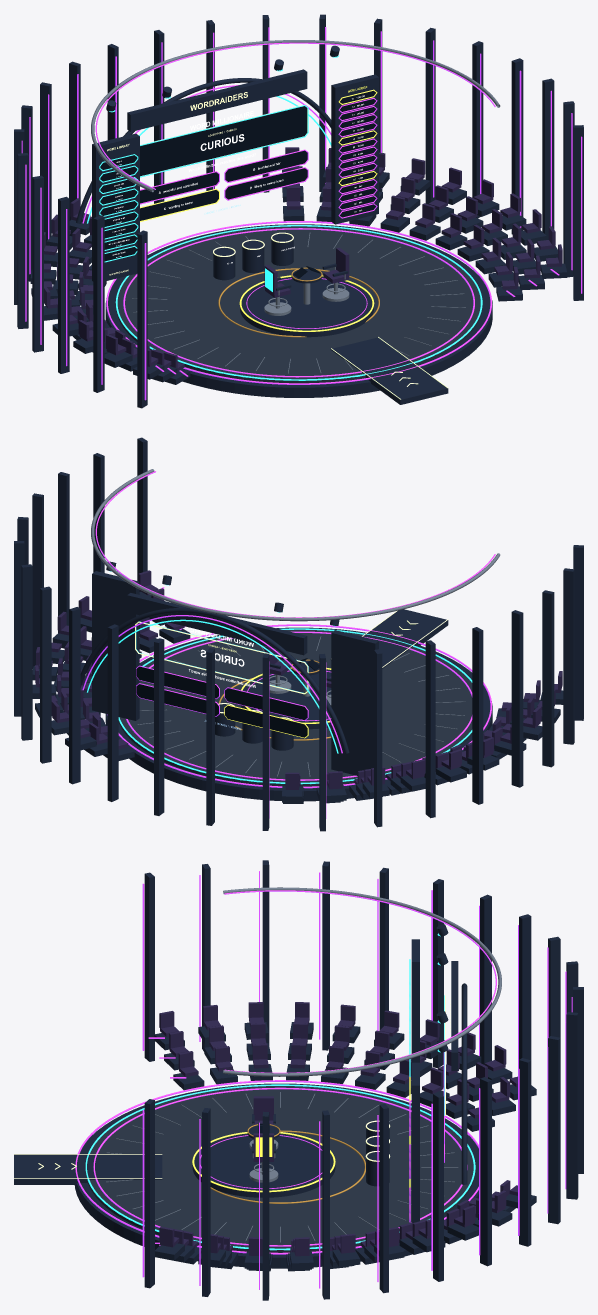
File: studio.glb
3 renders of one model, top to bottom at view 1: azimuth 30°, elevation 25°; view 2: azimuth 150°, elevation 25°; view 3: azimuth 270°, elevation 25°, orthographic. The views are drawn at different scales.
Visible parts, largest first — view 1: Stage_Main, Stage_Foundation, HotSeat_Dais, Flashcard_Front, Brand_Fascia, Entry_Walkway, Word_Library_Frame, Ladder_Frame, Wall_Fin.001, Wall_Fin.003, Wall_Fin.004, Lighting_Rig_Arc (+33 smaller); view 2: Stage_Main, Word_Library_Frame, Ladder_Frame, Stage_Foundation, Brand_Fascia, Entry_Walkway, Wall_Fin.002, Wall_Fin.003, Lighting_Rig_Arc, Wall_Fin.001, Wall_Fin.014, Wall_Fin.004 (+28 smaller); view 3: Stage_Main, HotSeat_Dais, Entry_Walkway, Stage_Foundation, Lighting_Rig_Arc, Wall_Fin.011, Wall_Fin.013, Wall_Fin.012, Wall_Fin.014, Wall_Fin.015, Wall_Fin.020, Wall_Fin (+22 smaller).
Part boxes in pixels (<box>): Stage_Main: <box>116,226,482,383</box>; Stage_Foundation: <box>105,224,492,397</box>; HotSeat_Dais: <box>240,276,373,337</box>; Flashcard_Front: <box>140,106,307,176</box>; Brand_Fascia: <box>127,69,307,131</box>; Entry_Walkway: <box>330,337,448,404</box>; Word_Library_Frame: <box>92,133,139,281</box>; Ladder_Frame: <box>331,74,378,224</box>; Wall_Fin.001: <box>93,215,104,392</box>; Wall_Fin.003: <box>32,175,43,352</box>; Wall_Fin.004: <box>17,153,28,328</box>; Lighting_Rig_Arc: <box>91,40,500,192</box>; Stage_Main: <box>118,629,472,786</box>; Word_Library_Frame: <box>331,630,378,775</box>; Ladder_Frame: <box>92,571,139,720</box>; Stage_Foundation: <box>105,627,492,801</box>; Brand_Fascia: <box>127,593,307,655</box>; Entry_Walkway: <box>330,609,448,668</box>; Wall_Fin.002: <box>542,590,554,767</box>; Wall_Fin.003: <box>511,610,523,787</box>; Lighting_Rig_Arc: <box>91,469,500,621</box>; Wall_Fin.001: <box>563,568,574,744</box>; Wall_Fin.014: <box>21,564,32,740</box>; Wall_Fin.004: <box>472,627,483,804</box>; Stage_Main: <box>87,1086,475,1252</box>; HotSeat_Dais: <box>192,1133,335,1197</box>; Entry_Walkway: <box>14,1154,162,1184</box>; Stage_Foundation: <box>74,1083,478,1268</box>; Lighting_Rig_Arc: <box>223,887,501,1076</box>; Wall_Fin.011: <box>566,1012,578,1199</box>; Wall_Fin.013: <box>519,1058,531,1246</box>; Wall_Fin.012: <box>548,1036,560,1224</box>; Wall_Fin.014: <box>480,1077,491,1266</box>; Wall_Fin.015: <box>433,1092,443,1281</box>; Wall_Fin.020: <box>144,1099,154,1288</box>; Wall_Fin: <box>144,872,154,1061</box>.
Bounding box in the file's own units: 22.08 × 8.08 × 20.75.
